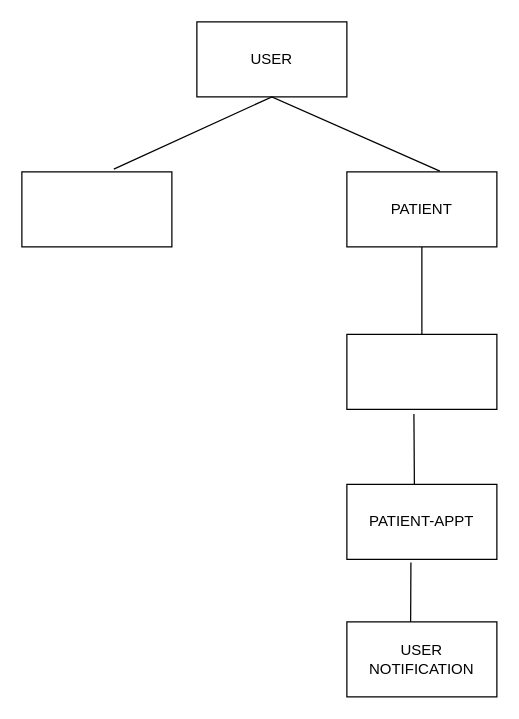
Image size: 519x719. Some labels were removed from this diagram. The shapes that lost their labels are listed below. From the top down, each one's centre as x and y in pixels, then its label:
At pixel 96 209: "DOCTOR".
At pixel 421 371: "SLOT".
